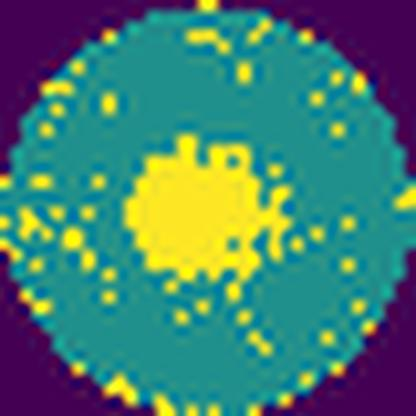Center: (122, 134, 295, 295)
